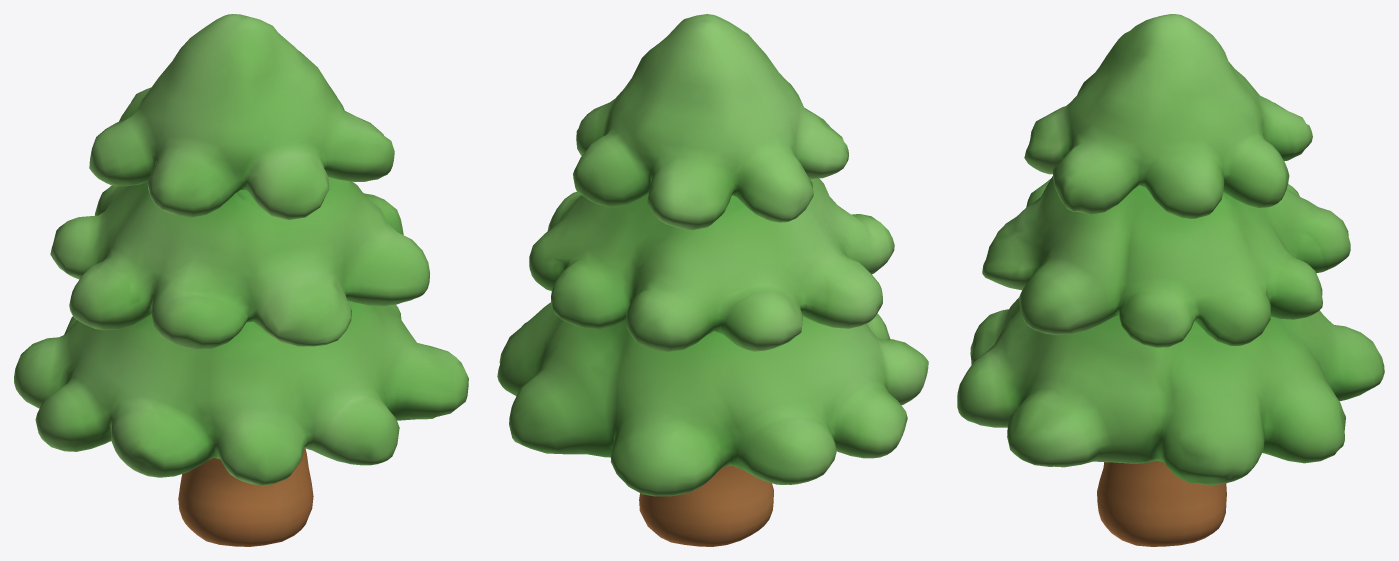
Rendered from pine-tree.glb.
3 renders of one model, left to right at view 1: azimuth 30°, elevation 25°; view 2: azimuth 150°, elevation 25°; view 3: azimuth 270°, elevation 25°, orthographic.
Parts seen in each view (by area): view 1: tripo_843533f7_83f6_4a57_b359_a9182ffcefcb; view 2: tripo_843533f7_83f6_4a57_b359_a9182ffcefcb; view 3: tripo_843533f7_83f6_4a57_b359_a9182ffcefcb.
Part boxes in pixels (x1,y1,x2,y2): tripo_843533f7_83f6_4a57_b359_a9182ffcefcb: (14, 14, 468, 546); tripo_843533f7_83f6_4a57_b359_a9182ffcefcb: (497, 14, 928, 546); tripo_843533f7_83f6_4a57_b359_a9182ffcefcb: (957, 14, 1384, 546).
Bounding box in the file's own units: 0.7671 × 0.9995 × 0.7622.
Materials: 1 (1 with a texture image).
